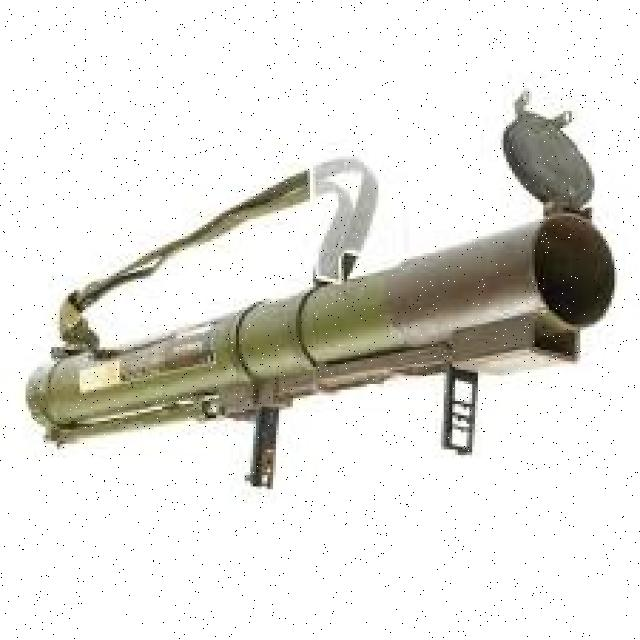bazooka: (22, 84, 626, 502)
